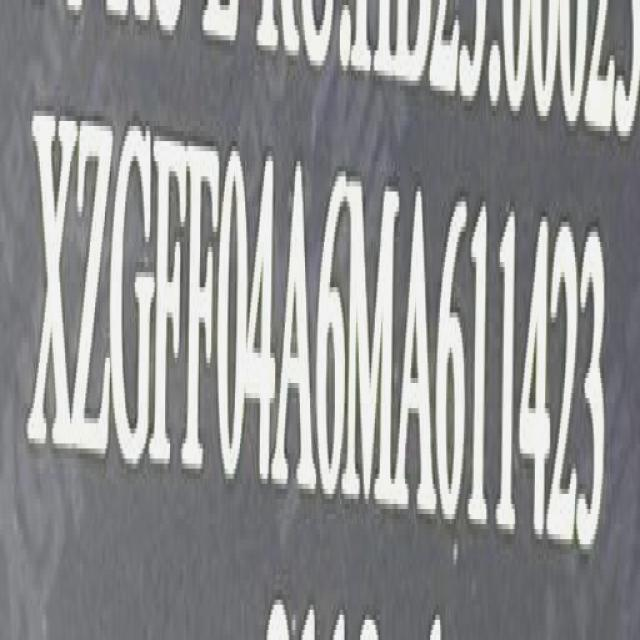0: (215, 150, 249, 488)
1: (494, 211, 519, 543), (469, 204, 491, 537)
2: (551, 229, 580, 554)
3: (580, 216, 608, 570)
4: (519, 209, 552, 547), (247, 145, 279, 491)
6: (316, 173, 350, 502), (435, 199, 468, 529)
A: (278, 159, 318, 499), (396, 191, 434, 525)
F: (153, 130, 187, 478), (187, 141, 219, 484)
G: (111, 124, 153, 474)
M: (346, 182, 398, 510)
X: (33, 110, 74, 464)
Z: (71, 116, 109, 467)
